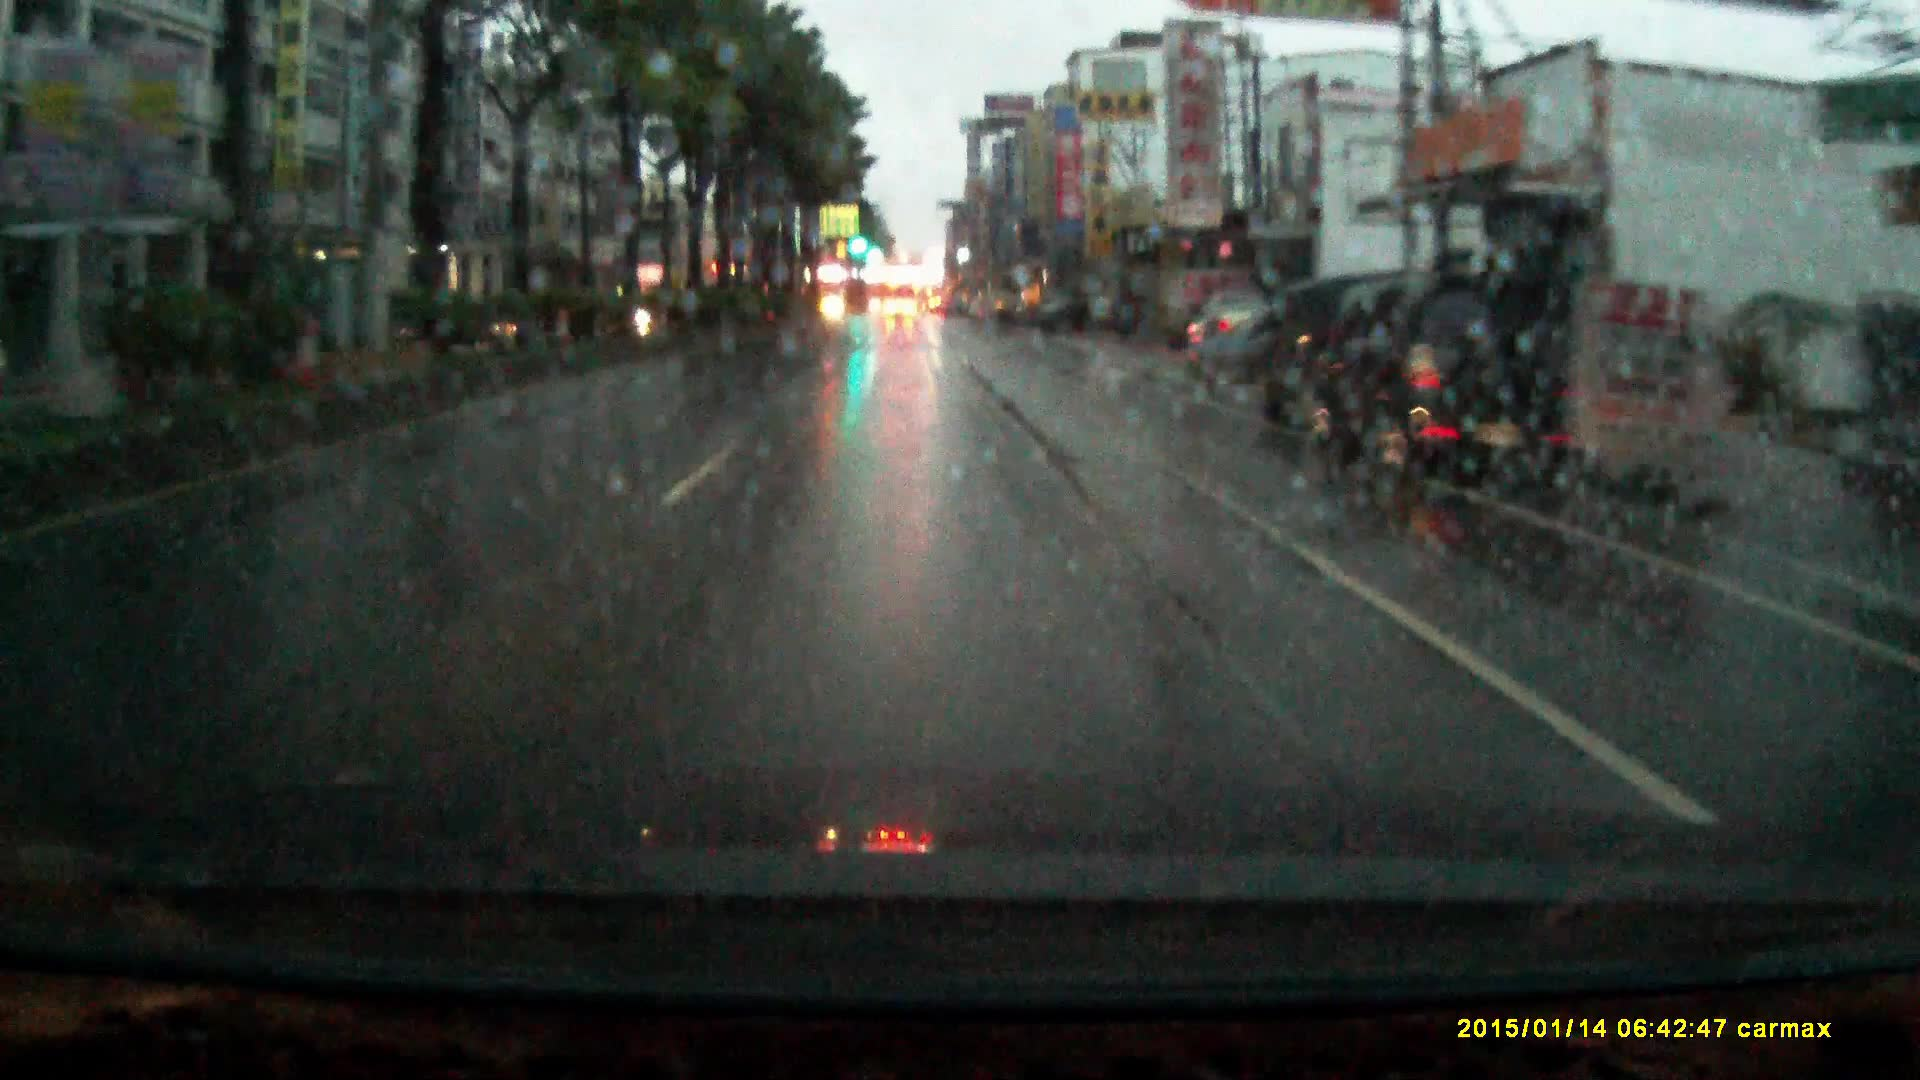vehicle: (1292, 262, 1598, 483), (1240, 262, 1425, 431), (1184, 295, 1282, 382), (977, 281, 1022, 320), (884, 291, 918, 316)
